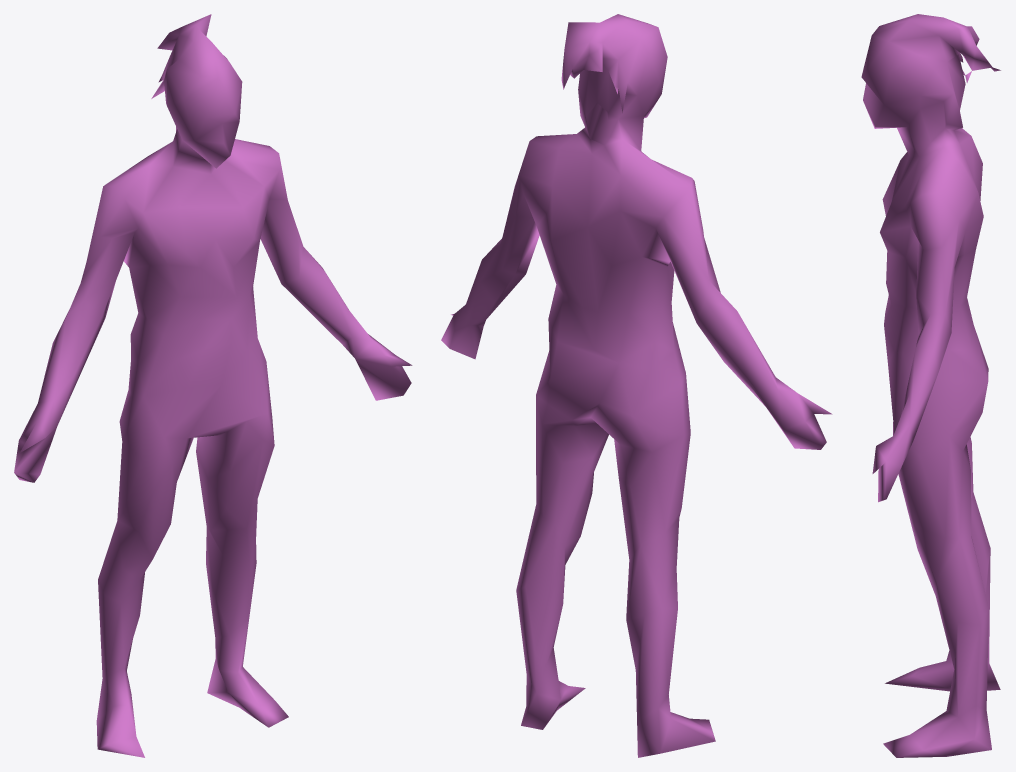
The model's file is PINKMAN2.fbx.
3 renders of one model, left to right at view 1: azimuth 30°, elevation 25°; view 2: azimuth 150°, elevation 25°; view 3: azimuth 270°, elevation 25°, orthographic.
Parts seen in each view (by area): view 1: Obj_Avatar_Shape; view 2: Obj_Avatar_Shape; view 3: Obj_Avatar_Shape.
Part boxes in pixels (left/top/right/bottom): Obj_Avatar_Shape: left=14, top=14, right=412, bottom=757; Obj_Avatar_Shape: left=441, top=14, right=832, bottom=757; Obj_Avatar_Shape: left=861, top=14, right=1000, bottom=757.
Size of the model in its own units: 1000 by 1696 by 305.
